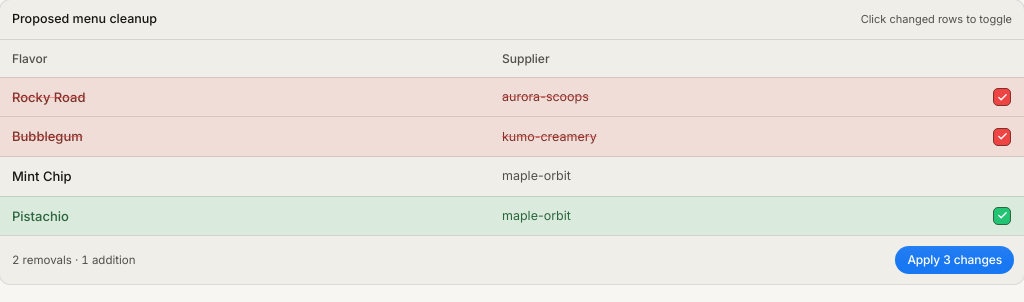
Test: DiffTable — toggling › excludes a change from its checkbox and updates the counts and the button
Click the checkbox named "Include removing Rocky Road": (1002, 97) [993,88,1011,106]
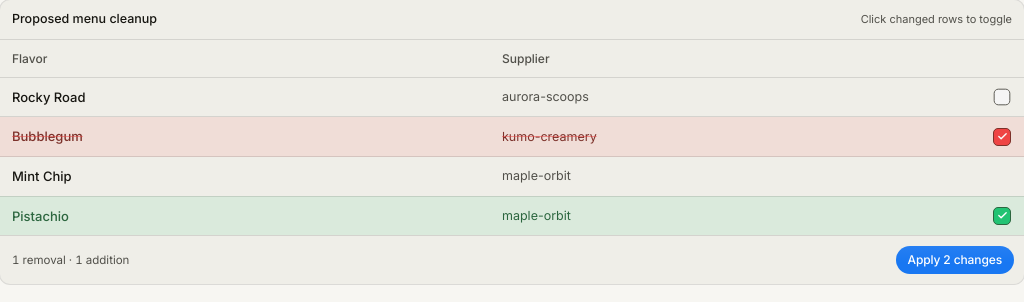
Check: the checkbox named "Include removing Rocky Road" is not checked, box [994,89,1010,106]
Check: the text "1 removal · 1 addition" is shown, box [10,252,129,269]
Check: the button "Apply 2 changes" is shown, box [896,246,1014,274]
